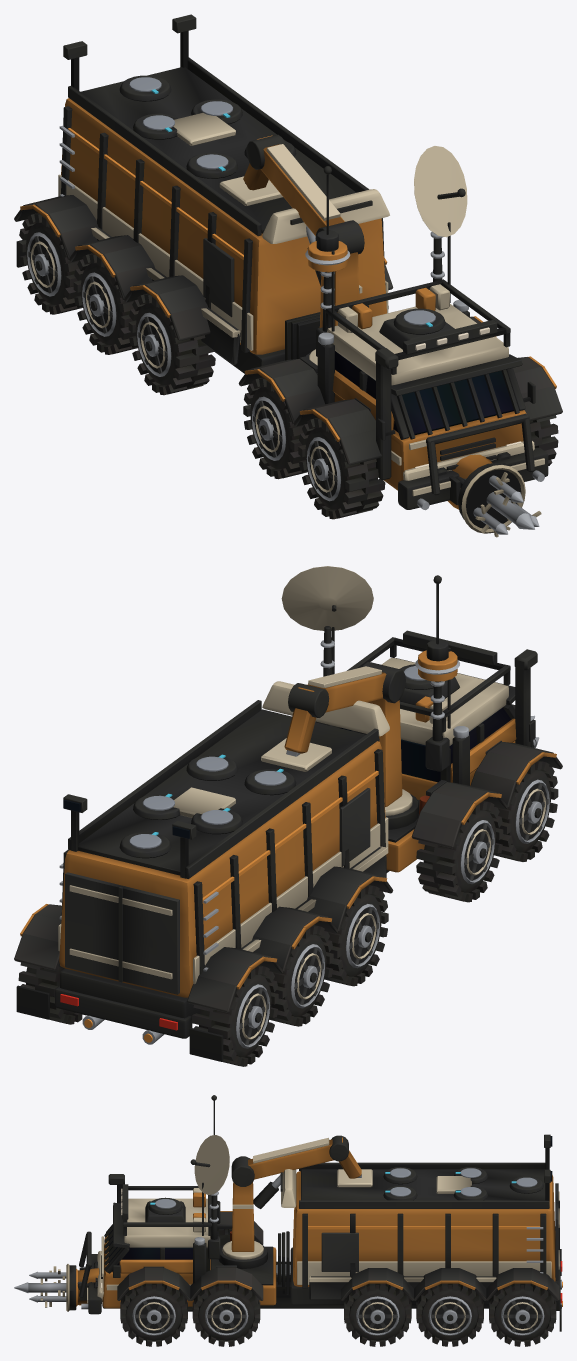
The model's file is ex_rover_12.glb.
The picture shows the model from 3 angles, top to bottom: view 1: azimuth 30°, elevation 25°; view 2: azimuth 150°, elevation 25°; view 3: azimuth 270°, elevation 25°; orthographic projection. The views are drawn at different scales.
Parts seen in each view (by area): view 1: body, wheel_1, wheel_5, drill, wheel_9, wheel_3, wheel_7, wheel_0; view 2: body, wheel_3, wheel_9, wheel_7, wheel_5, wheel_1, wheel_8; view 3: body, wheel_2, wheel_8, wheel_6, wheel_4, wheel_0, drill.
Boxes of the visible parts, box(x1,y1,x2,y2) form: body: box(14, 14, 562, 510); wheel_1: box(298, 418, 385, 519); wheel_5: box(128, 293, 215, 395); drill: box(458, 463, 541, 537); wheel_9: box(18, 213, 82, 314); wheel_3: box(243, 377, 307, 479); wheel_7: box(73, 253, 137, 354); wheel_0: box(530, 415, 558, 465); body: box(14, 566, 562, 1061); wheel_3: box(416, 800, 503, 902); wheel_9: box(191, 965, 278, 1066); wheel_7: box(269, 925, 333, 1026); wheel_5: box(324, 884, 388, 986); wheel_1: box(494, 760, 558, 861); wheel_8: box(18, 962, 85, 1024); body: box(76, 1095, 562, 1331); wheel_2: box(192, 1283, 260, 1346); wheel_8: box(489, 1283, 556, 1346); wheel_6: box(416, 1283, 483, 1346); wheel_4: box(344, 1283, 411, 1346); wheel_0: box(120, 1283, 187, 1346); drill: box(14, 1264, 76, 1311).
Size of the model in its own units: 7.44 by 9.74 by 24.2.
